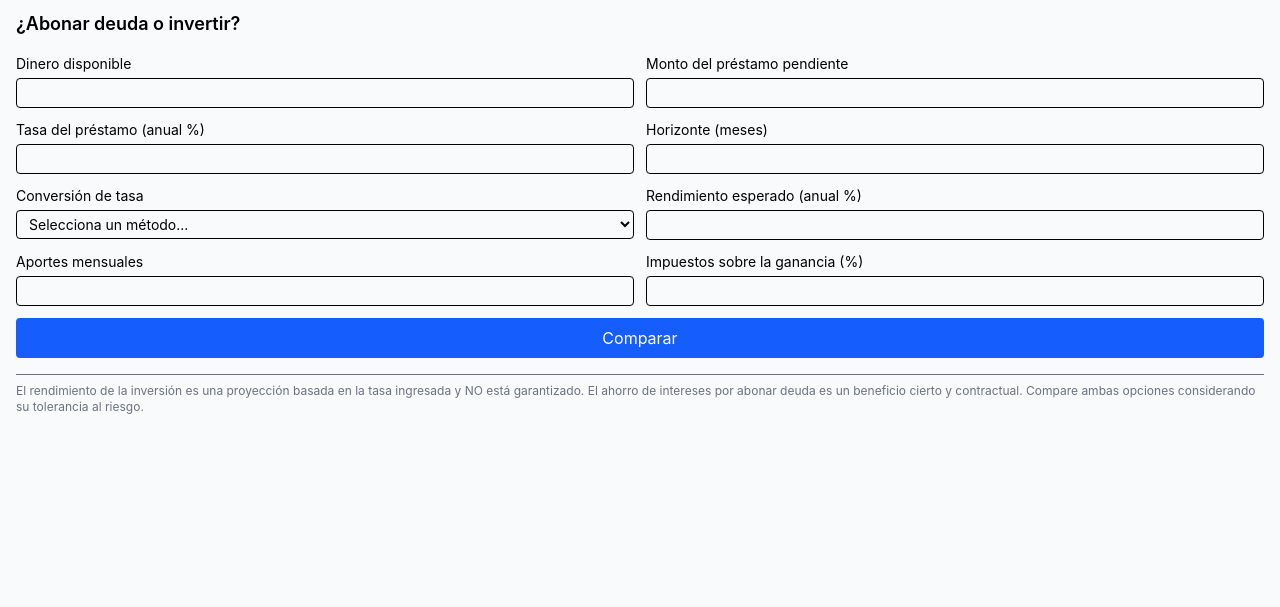
Test case: DebtVsInvestmentPanel › debe mostrar el resultado y la recomendación luego de comparar
Type "5000" into the number field labelled "Dinero disponible". click: coordinates (325, 93)
box: [16,78,634,108]
Type "10000" into the number field labelled "Monto del préstamo pendiente". click: coordinates (955, 93)
box: [646,78,1264,108]
Type "12" into the number field labelled "Tasa del préstamo (anual %)". click: coordinates (325, 159)
box: [16,144,634,174]
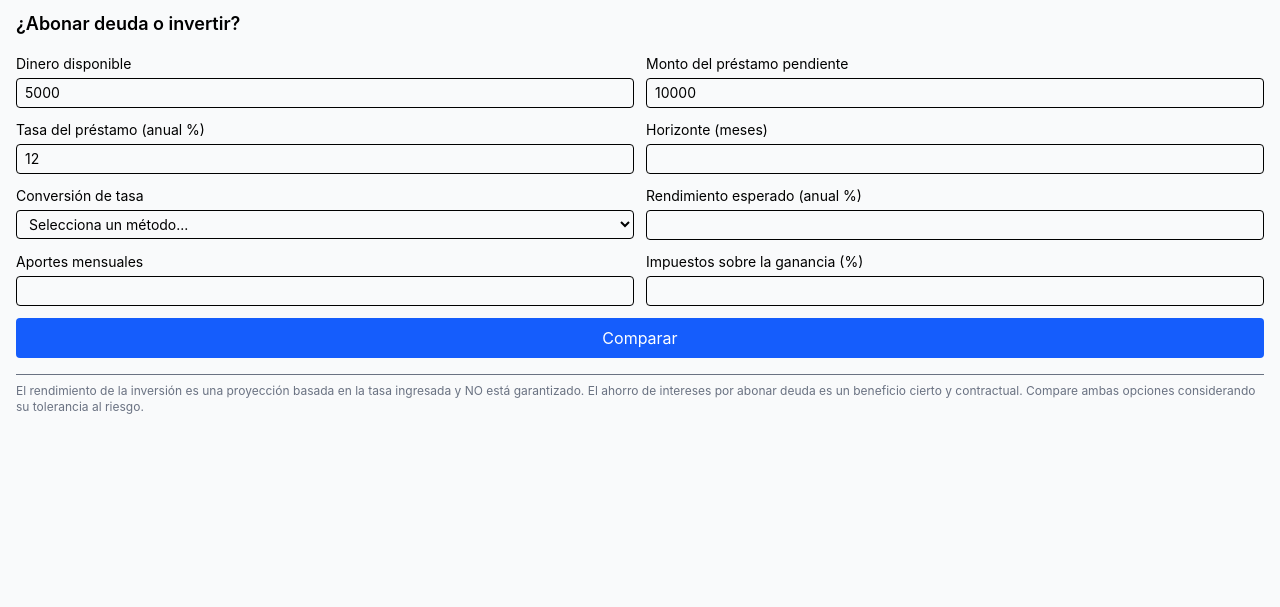
Type "12" into the number field labelled "Horizonte (meses)". click: coordinates (955, 159)
box: [646,144,1264,174]
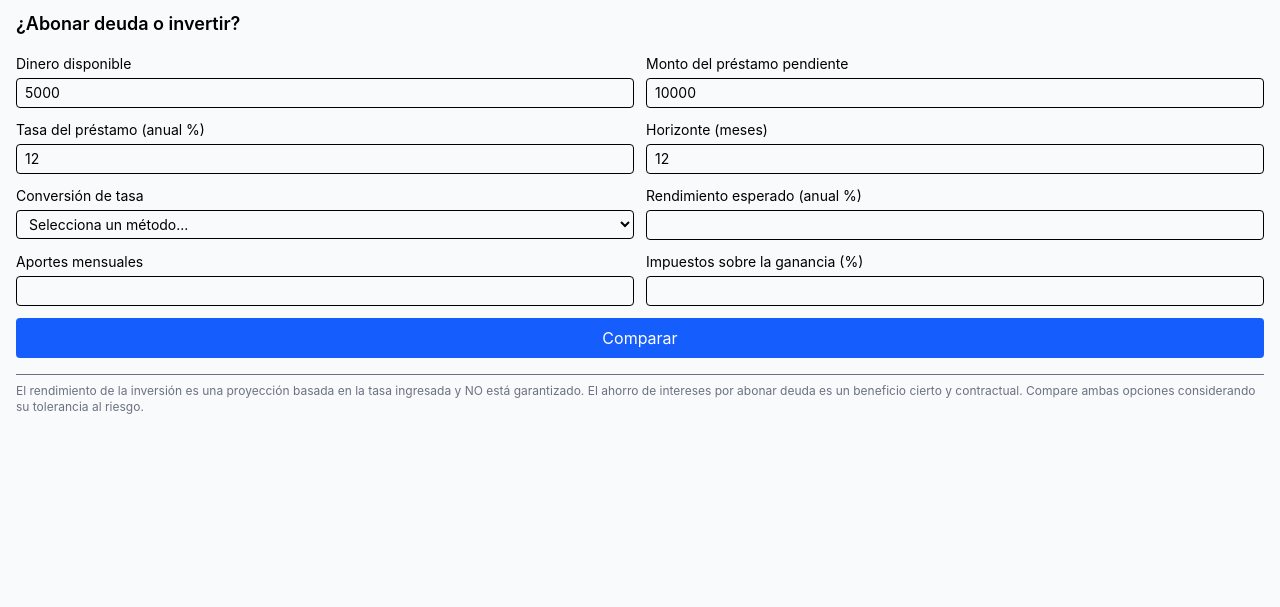
Select "Nominal (i/12)" in the dropdown labelled "Conversión de tasa". click: coordinates (325, 224)
box: [16,210,634,239]
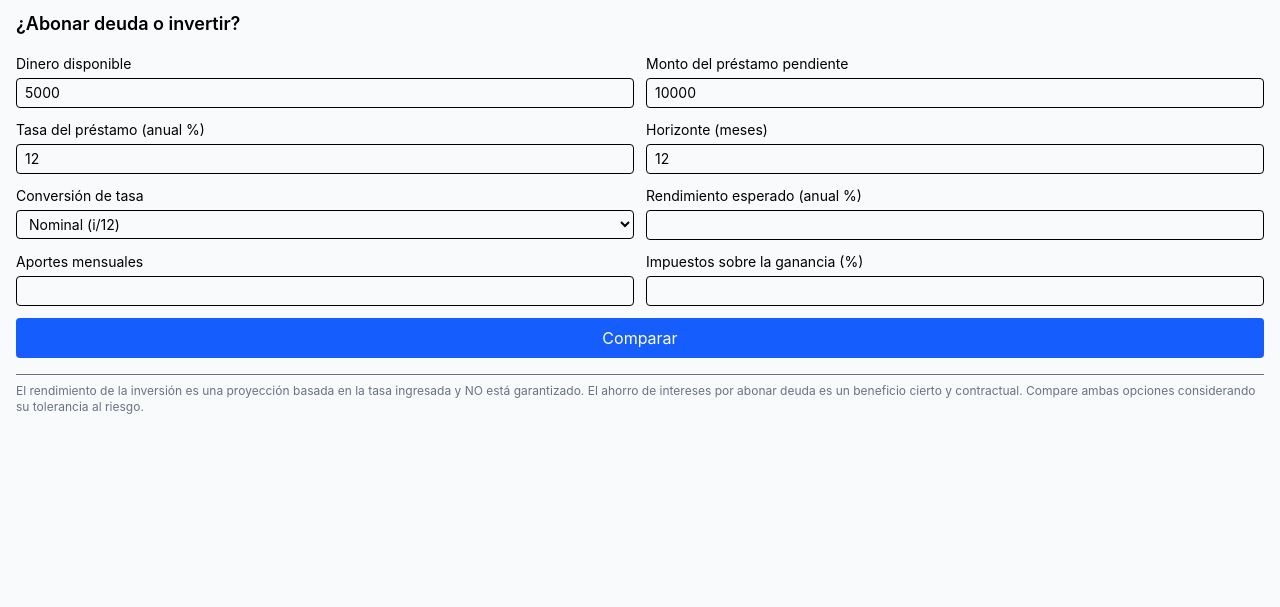
Type "10" into the number field labelled "Rendimiento esperado (anual %)". click: coordinates (955, 225)
box: [646,210,1264,240]
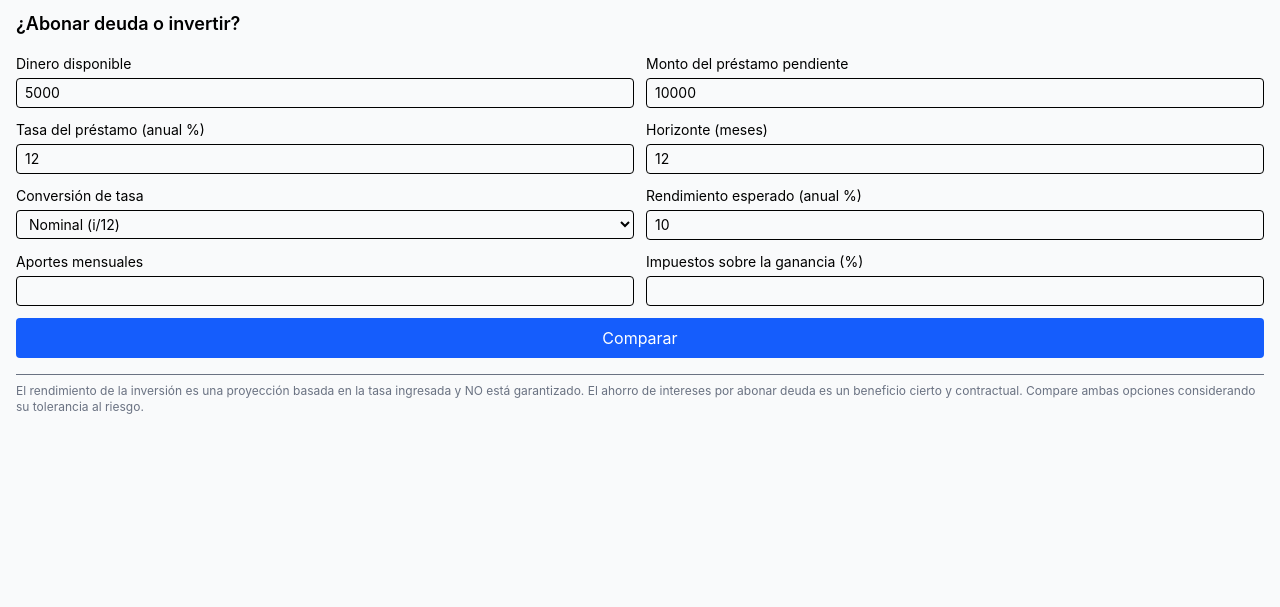
Type "100" into the number field labelled "Aportes mensuales". click: coordinates (325, 291)
box: [16,276,634,306]
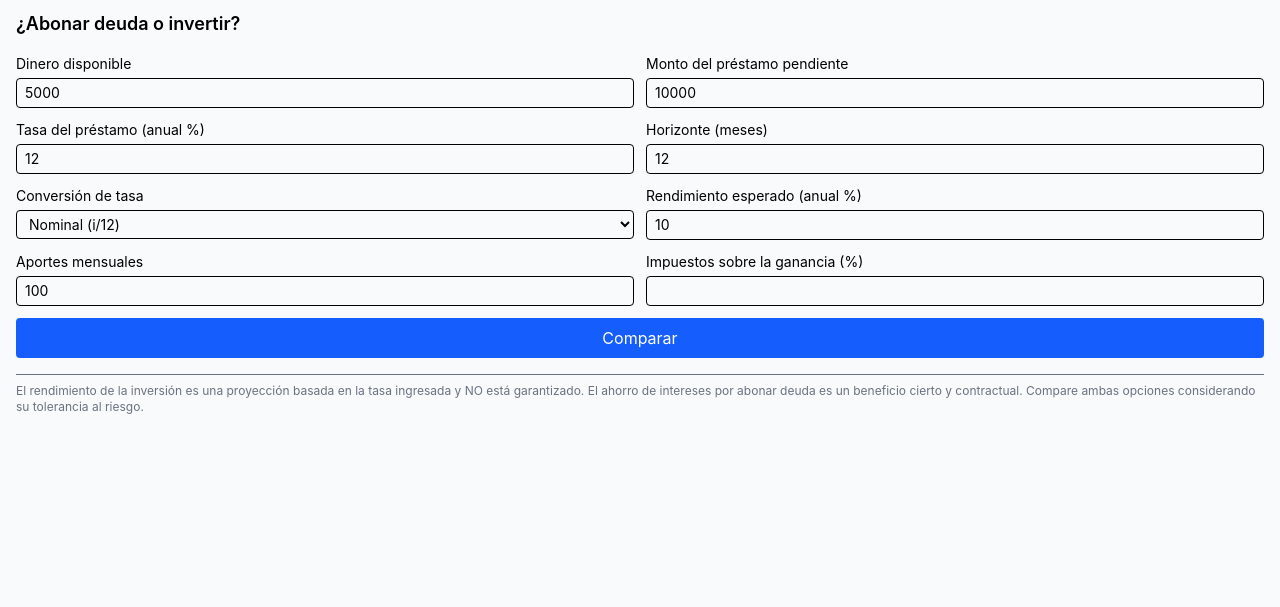
Click the button "Comparar". click: coordinates (640, 338)
box: [16,318,1264,358]
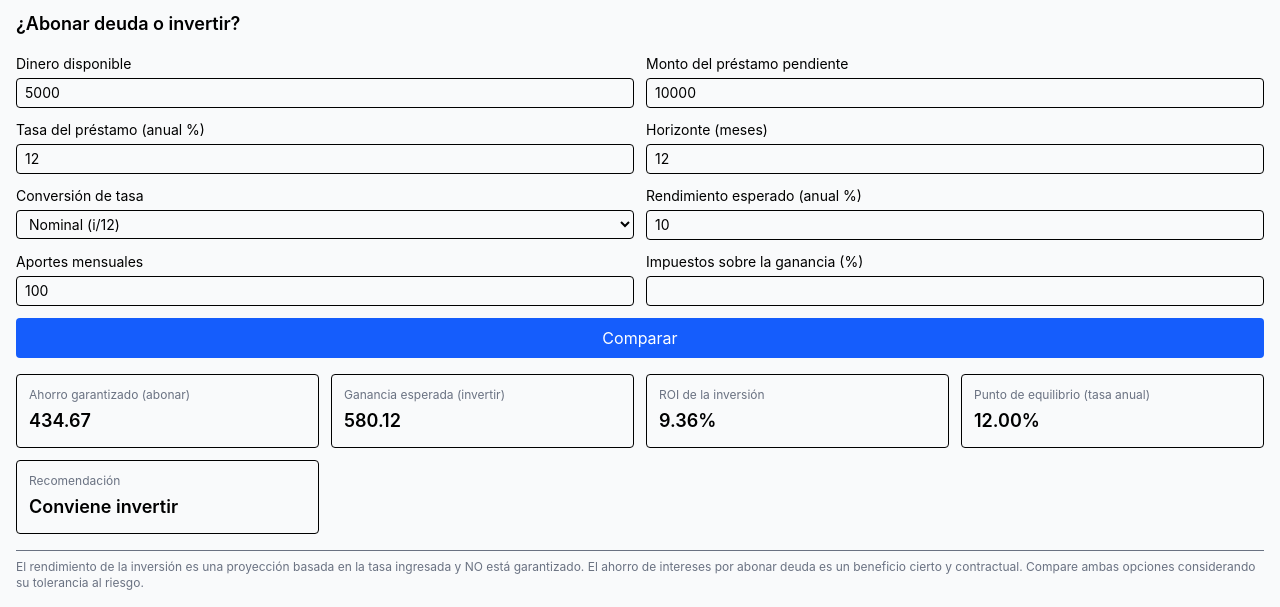
Expected: the text "Ahorro garantizado (abonar)" is shown, [29,387,190,402]
Expected: the text "Ganancia esperada (invertir)" is shown, [344,387,505,402]
Expected: the text "Punto de equilibrio (tasa anual)" is shown, [974,387,1150,402]
